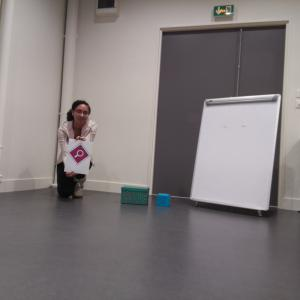big: (191, 96, 277, 214)
small: (121, 184, 150, 205), (156, 192, 170, 207)
